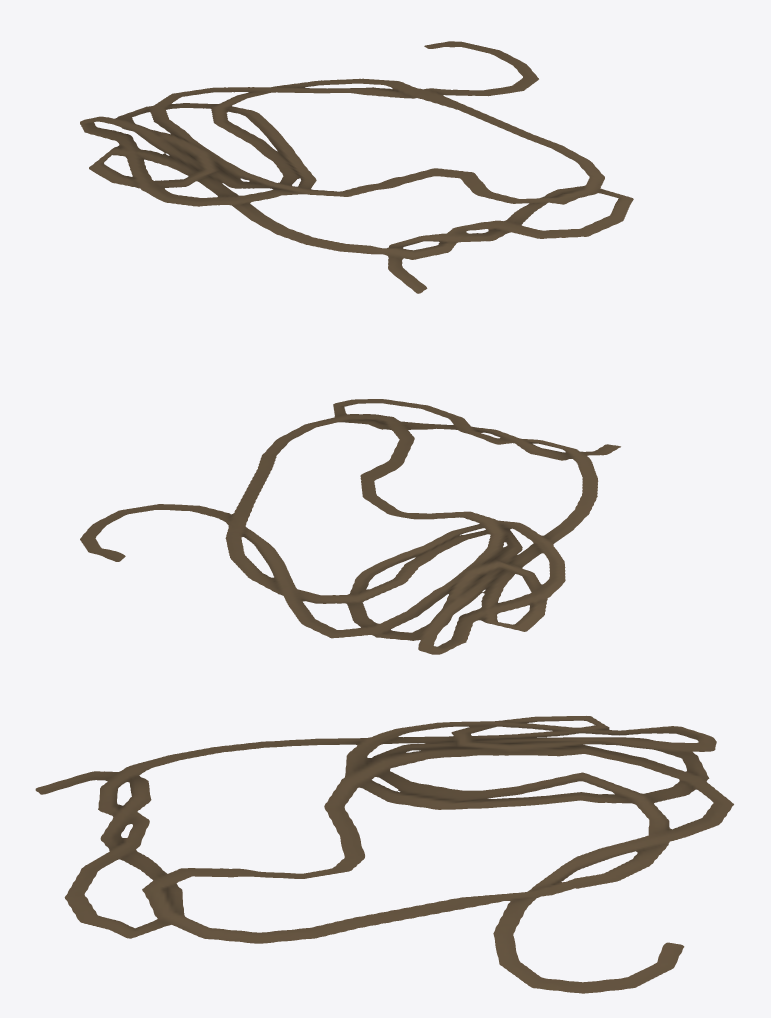
The model's file is SM_Prop_Ropes_02.fbx.
The picture shows the model from 3 angles, top to bottom: view 1: azimuth 30°, elevation 25°; view 2: azimuth 150°, elevation 25°; view 3: azimuth 270°, elevation 25°; orthographic projection. The views are drawn at different scales.
Visible parts, largest first — view 1: SM_Prop_Ropes_02; view 2: SM_Prop_Ropes_02; view 3: SM_Prop_Ropes_02.
Part boxes in pixels (left/top/right/bottom): SM_Prop_Ropes_02: left=80, top=41, right=633, bottom=293; SM_Prop_Ropes_02: left=80, top=399, right=620, bottom=654; SM_Prop_Ropes_02: left=35, top=716, right=733, bottom=993.
Bounding box in the file's own units: 134 × 5.3 × 144.
